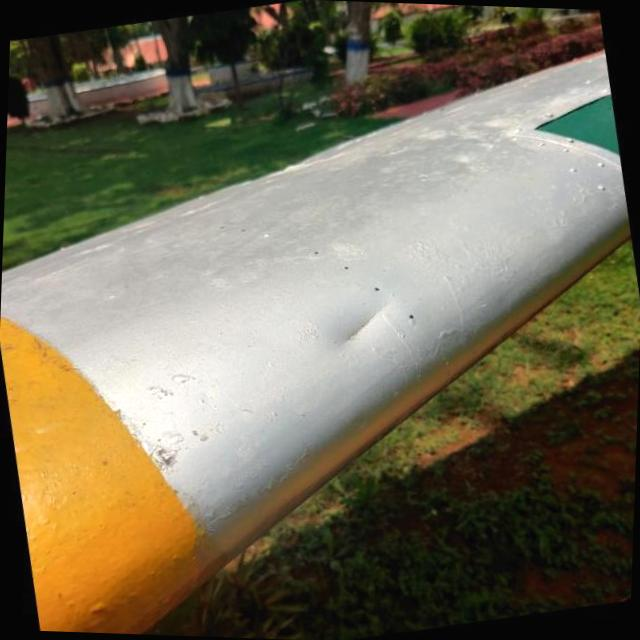dent: (314, 292, 401, 362)
